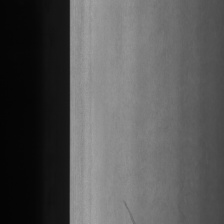water_spot: (119, 191, 136, 224)
